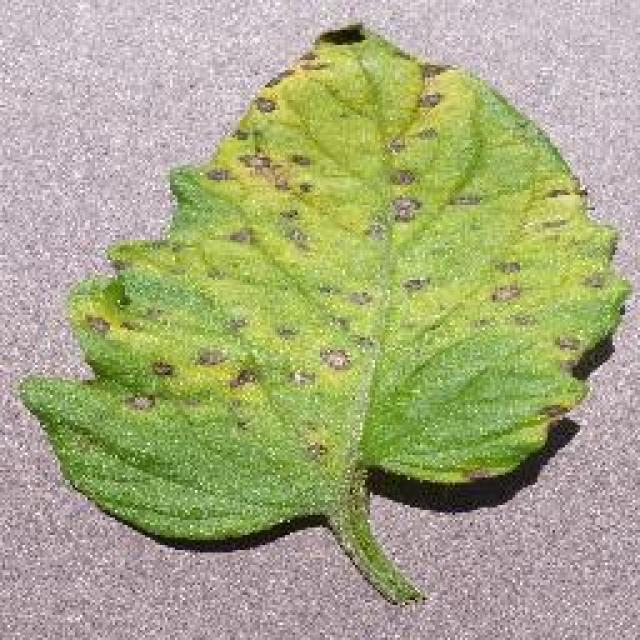Tomato Septoria spot leaf: (26, 23, 628, 537)
